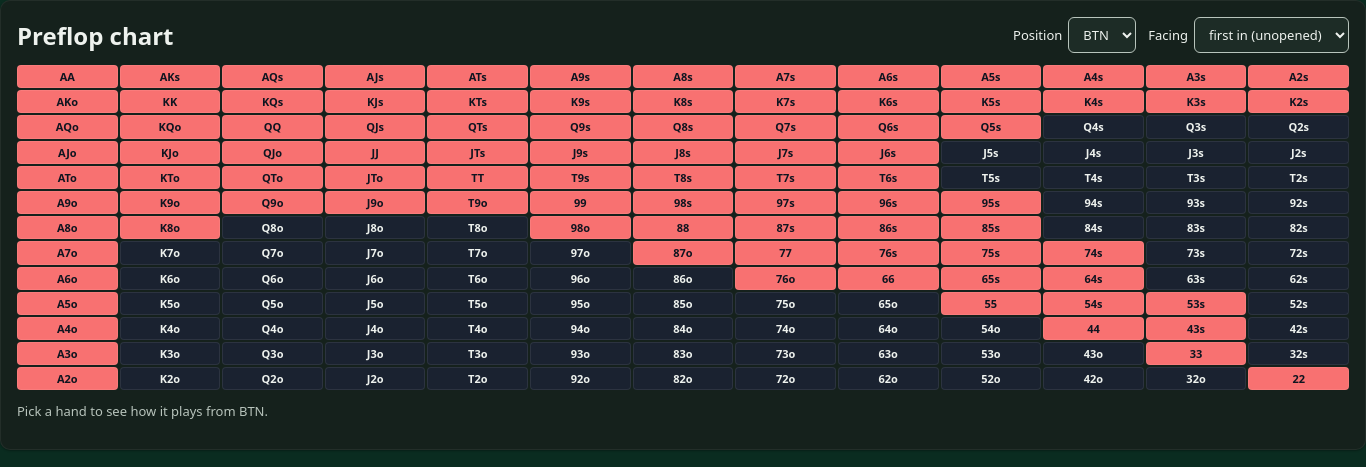
Test: PreflopChartTab › BB + unopened facing (#1) › shows the explanatory panel, not an all-Fold grid
Select "BB" in the dropdown labelled "Position" at {"x": 1102, "y": 35}, box [1068,17,1136,53]
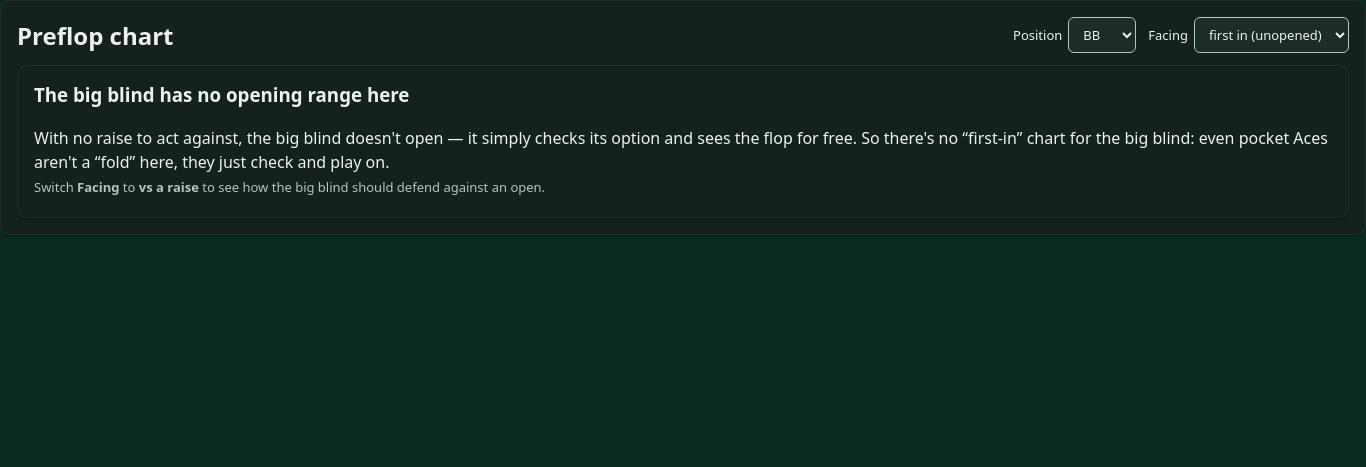
Expected: the element with test id "chart-bb-no-open" is shown, [17,65,1349,218]
